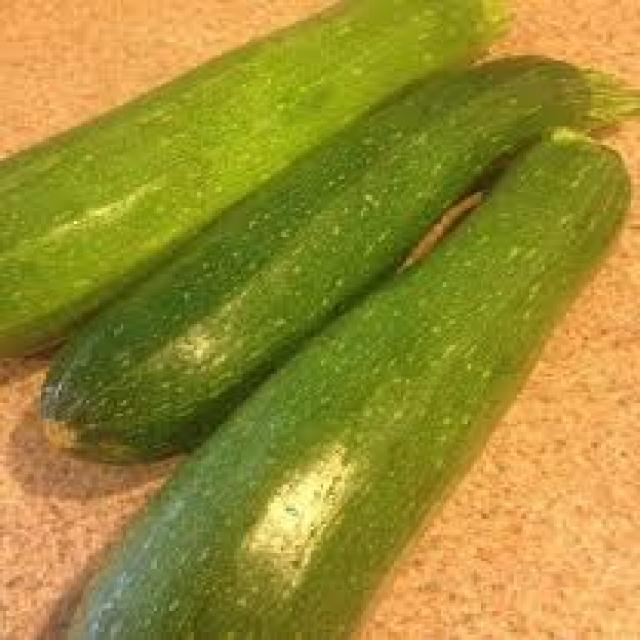organic waste: (58, 132, 624, 637), (34, 56, 637, 463), (0, 0, 511, 356)
